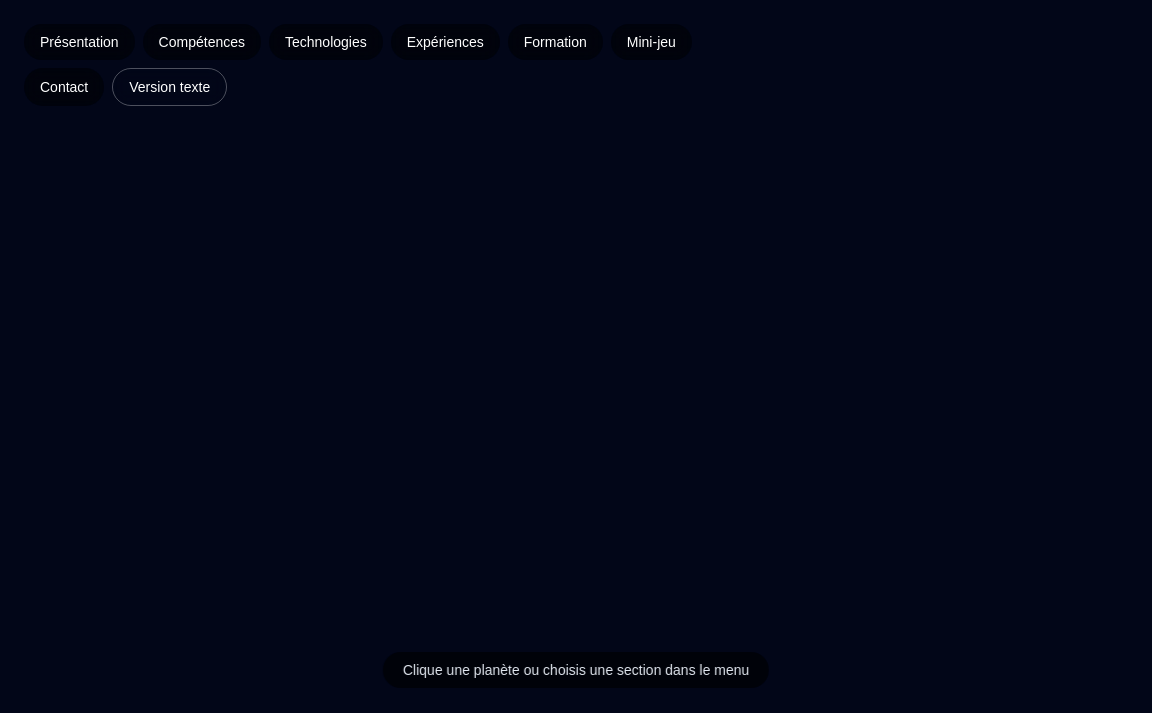
Scenario: App › revient au système solaire et retire #cv de l’adresse
Click the button "Version texte".
click(170, 87)  # box left=112, top=68, right=227, bottom=106
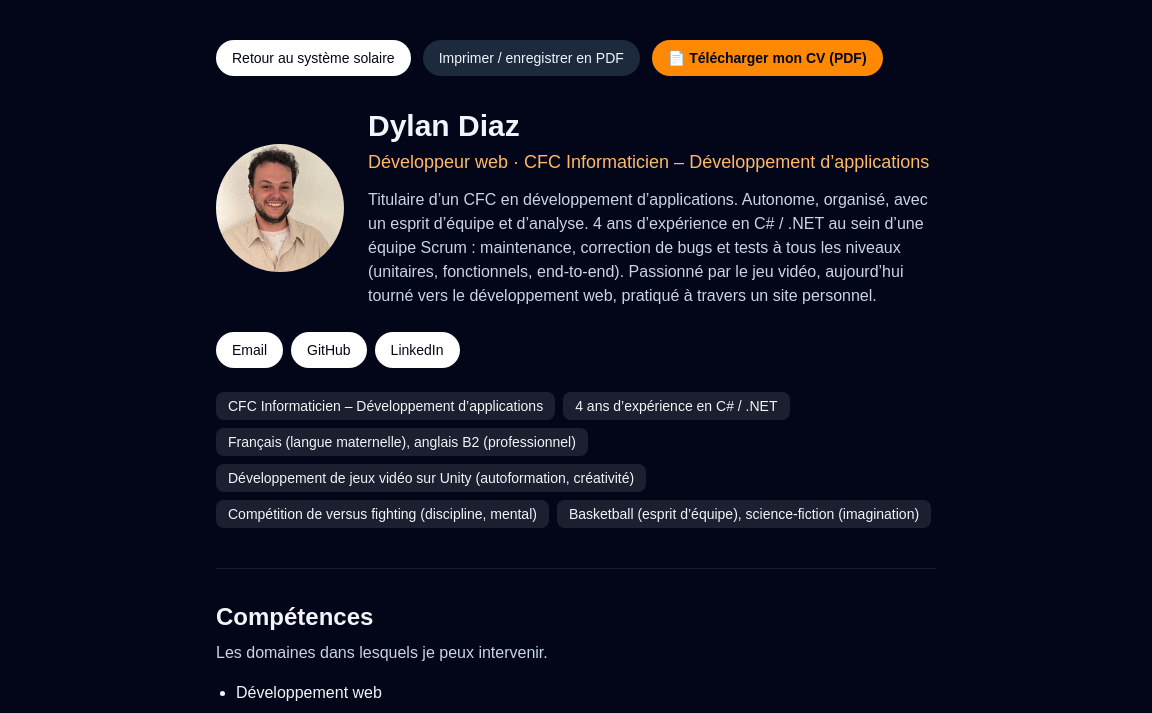
Click the button "Retour au système solaire".
click(313, 58)  # box left=216, top=40, right=411, bottom=76
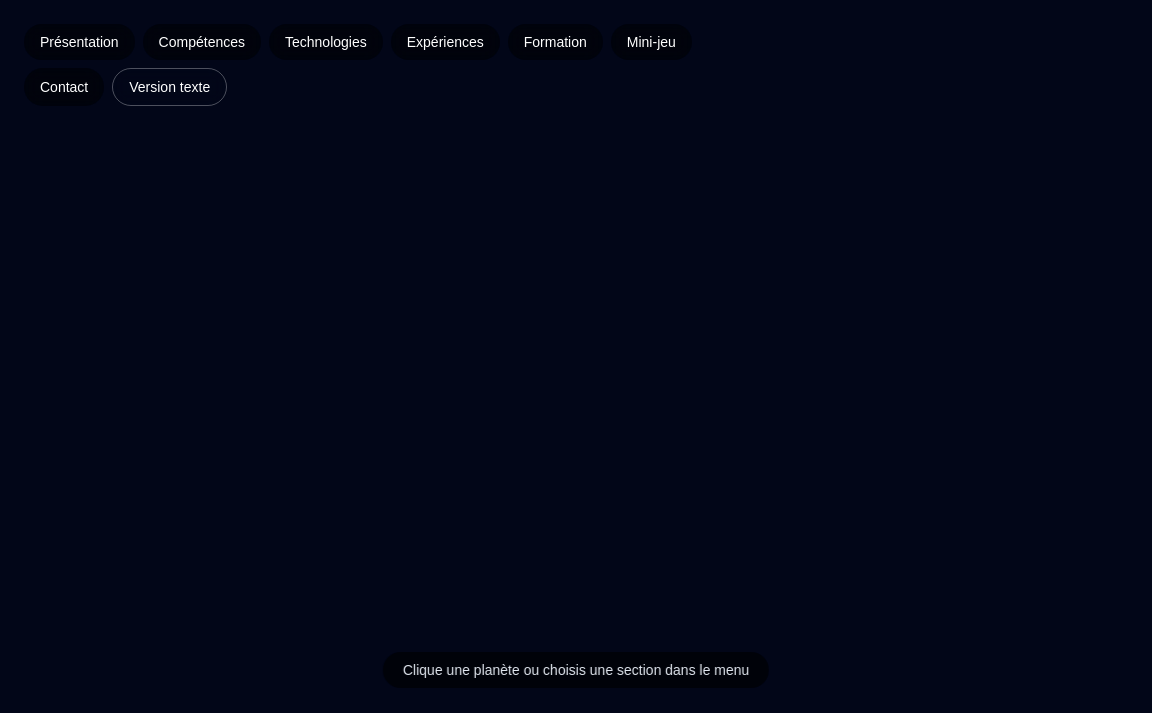
Expected: the heading "Dylan Diaz" is gone
